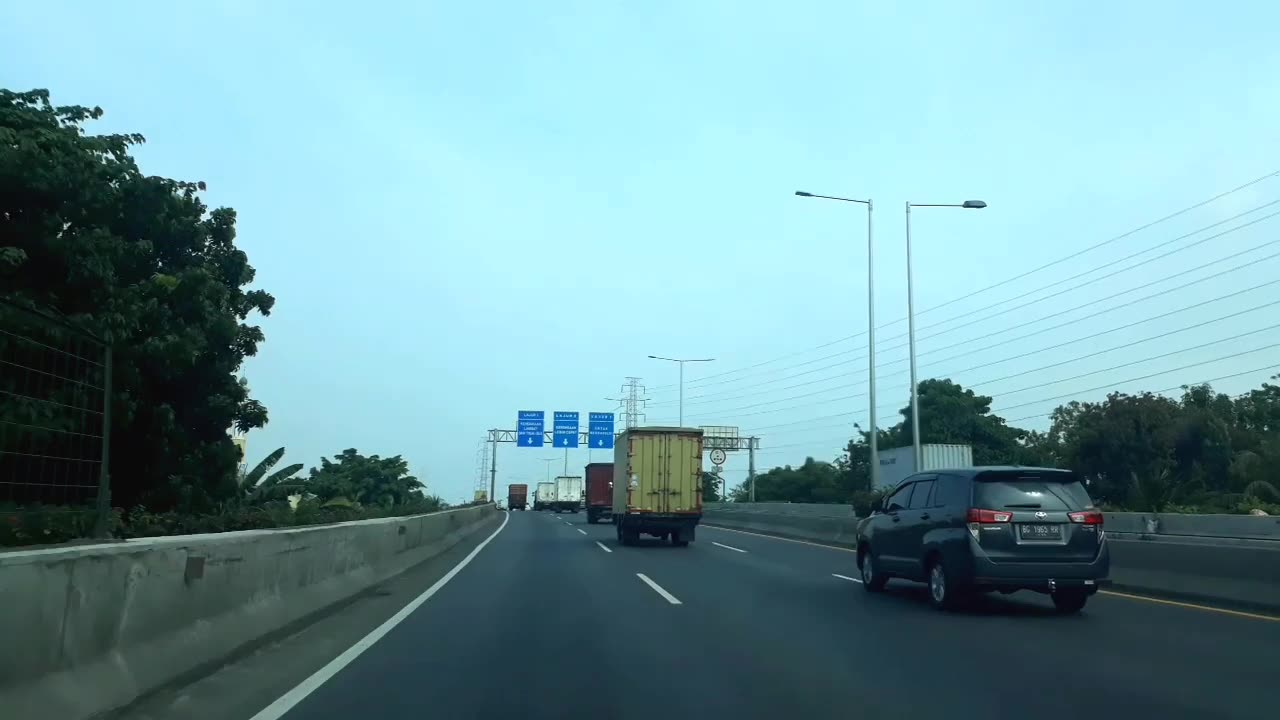plate_positive: (1019, 523, 1062, 541)
